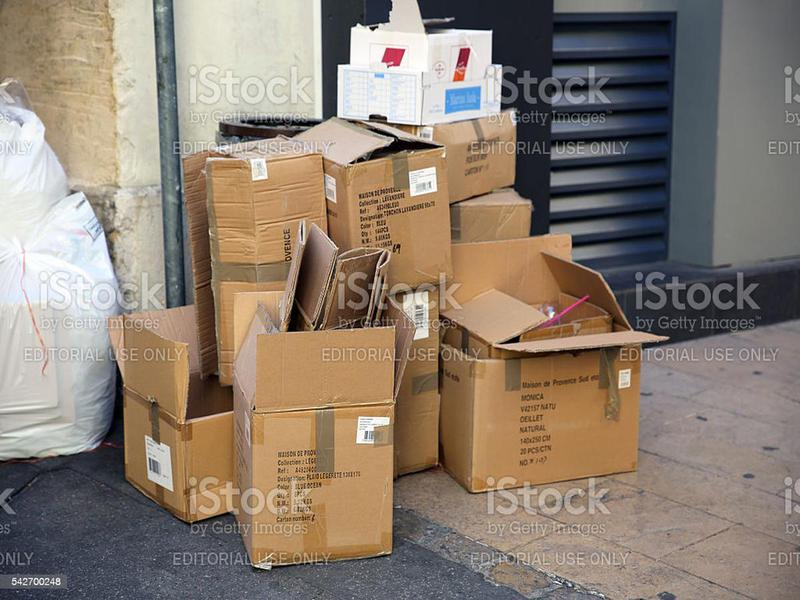cardboard: (443, 238, 650, 494), (240, 307, 408, 563), (184, 116, 324, 332), (309, 116, 454, 318), (108, 308, 235, 520), (326, 3, 510, 122), (434, 114, 578, 239)
